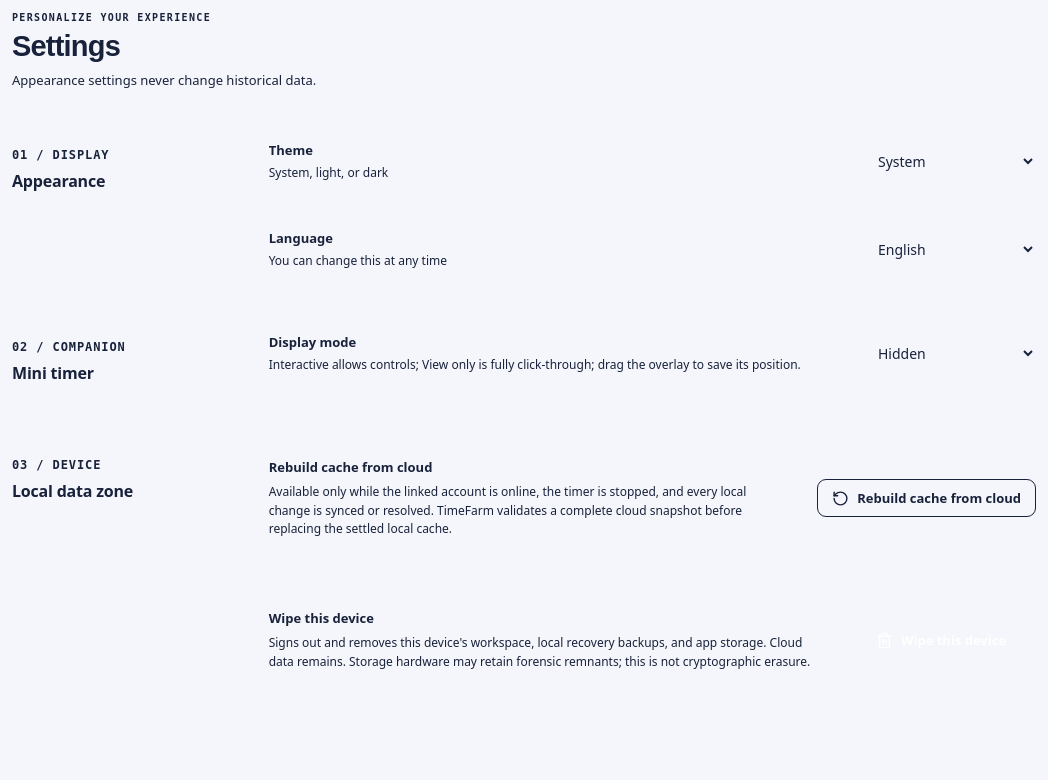
Scenario: Account pages › describes cache rebuild constraints and exposes failures assertively
Click the button "Rebuild cache from cloud" at {"x": 927, "y": 498}, box x1=817 y1=480 x2=1036 y2=518
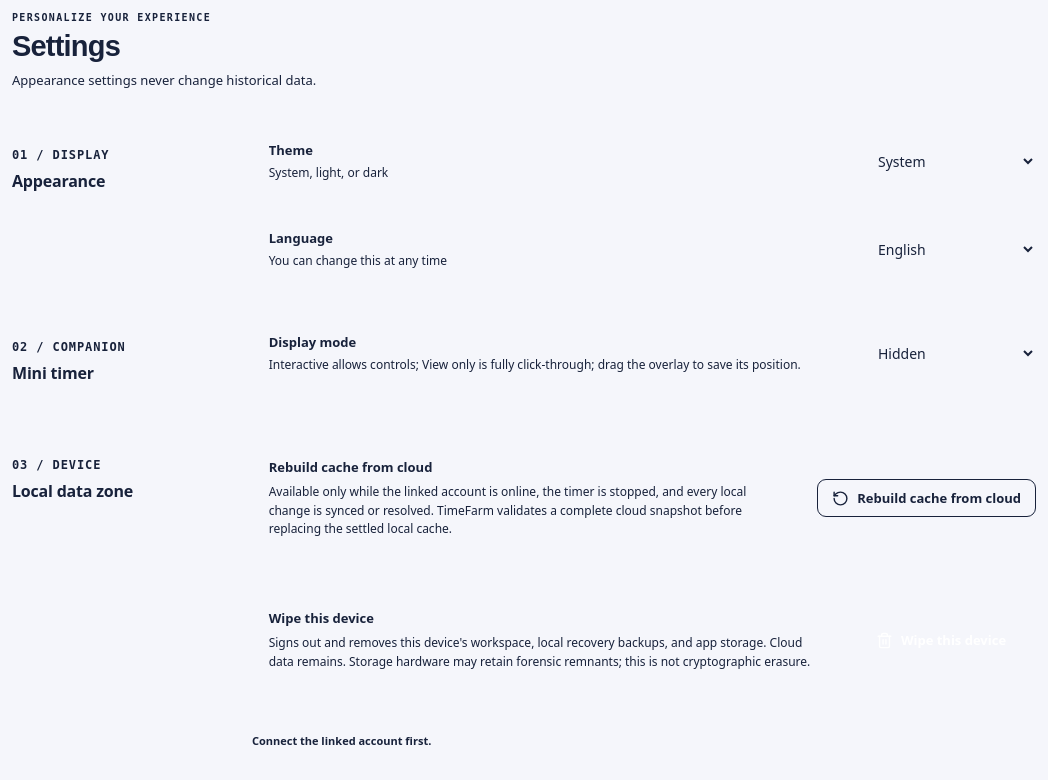
Expected: the message reads "Connect the linked account first.", x1=252 y1=734 x2=431 y2=748
